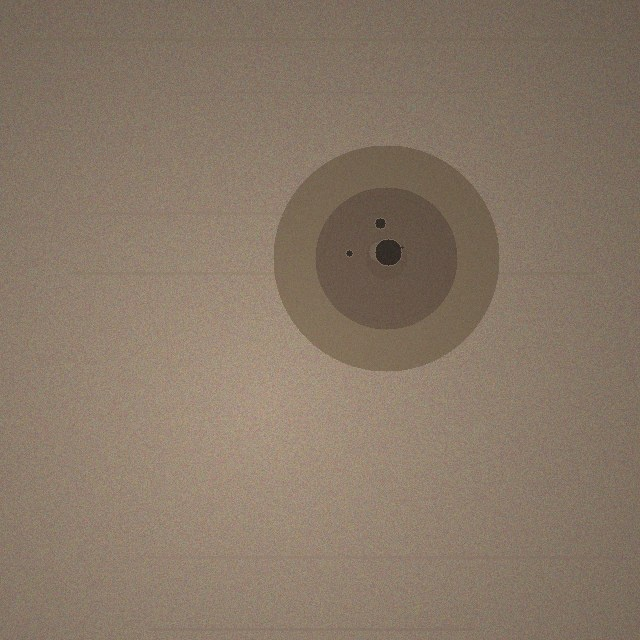shrinkage: (273, 145, 499, 371)
